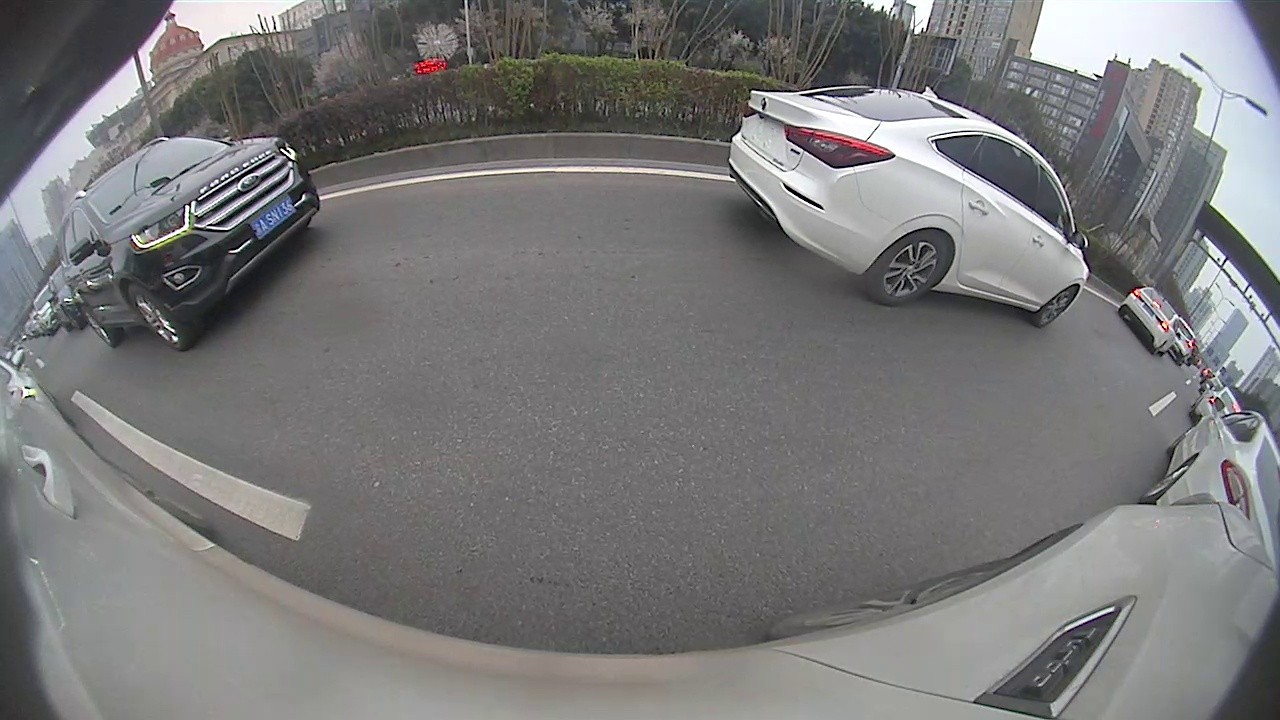car: (728, 85, 1090, 328), (53, 138, 320, 353), (1135, 398, 1278, 575), (1117, 287, 1181, 359)
front: (121, 284, 186, 348), (1036, 287, 1081, 325)
rear: (875, 232, 950, 303)
